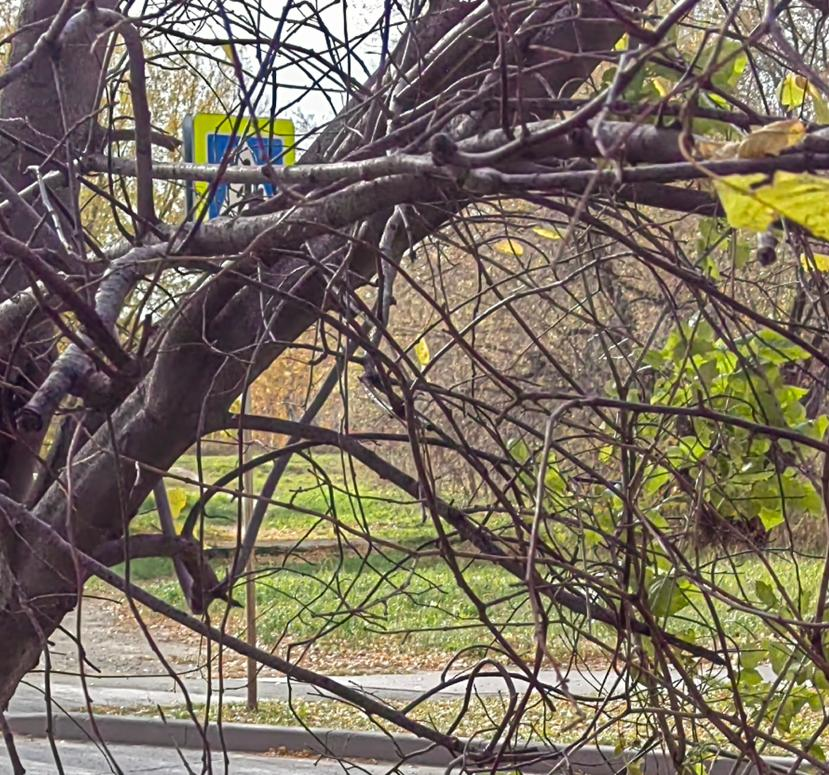obstructed_road_sign: (191, 112, 295, 221)
